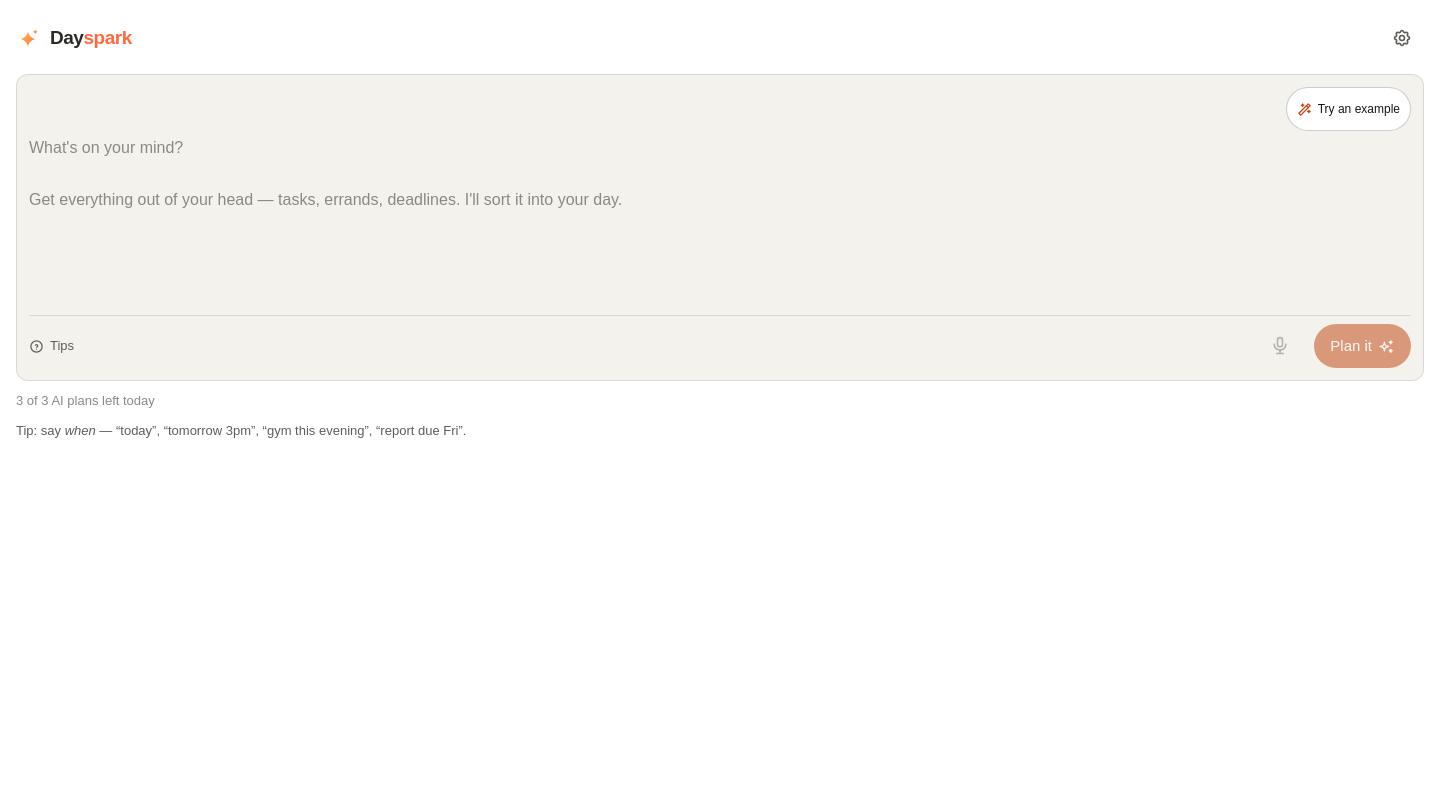
it: CaptureFlow › opens the Tips guide when the Tips button is tapped (issue #4 #8)
Click the button "Tips".
click(52, 346)  # box [29,324,74,368]
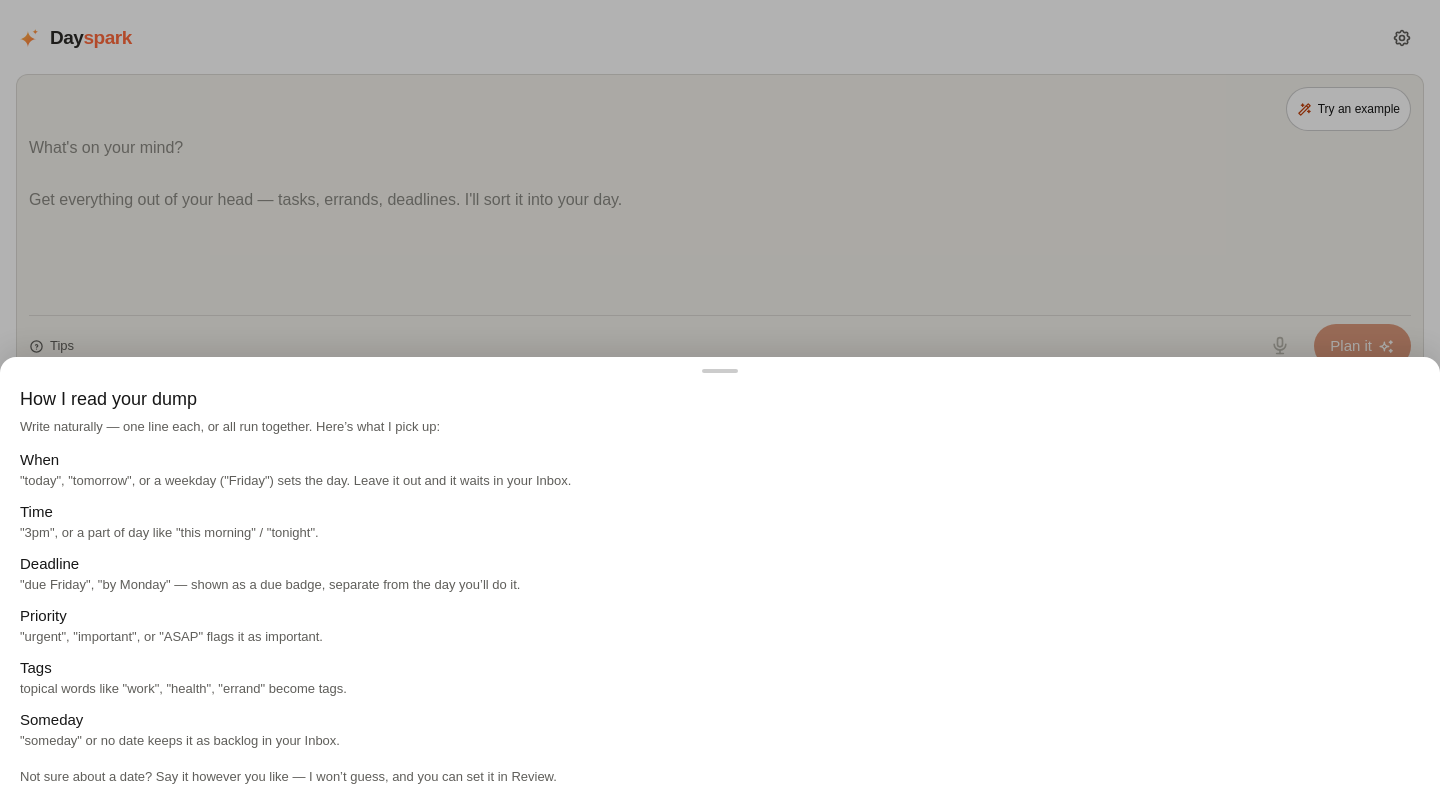
Expected: the dialog "How I read your dump" is shown, [0,357,1439,809]
